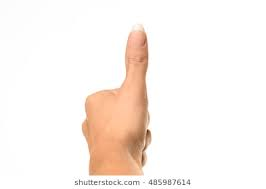thumbs_up: (76, 17, 167, 158)
